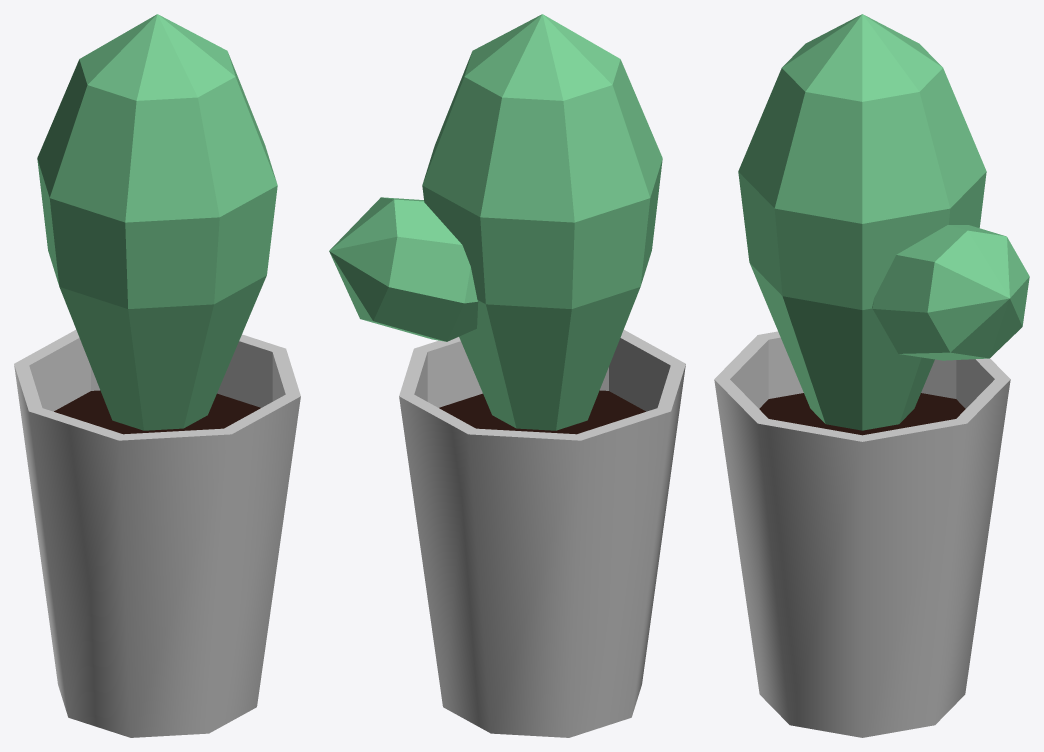
The model's file is flower.FBX.
The picture shows the model from 3 angles, left to right: view 1: azimuth 30°, elevation 25°; view 2: azimuth 150°, elevation 25°; view 3: azimuth 270°, elevation 25°; orthographic projection.
Parts seen in each view (by area): view 1: flower; view 2: flower; view 3: flower.
Part boxes in pixels (x1,y1,x2,y2): flower: (14, 14, 300, 737); flower: (329, 14, 685, 737); flower: (714, 14, 1029, 737).
Bounding box in the file's own units: 6.01 × 14.34 × 6.03.
